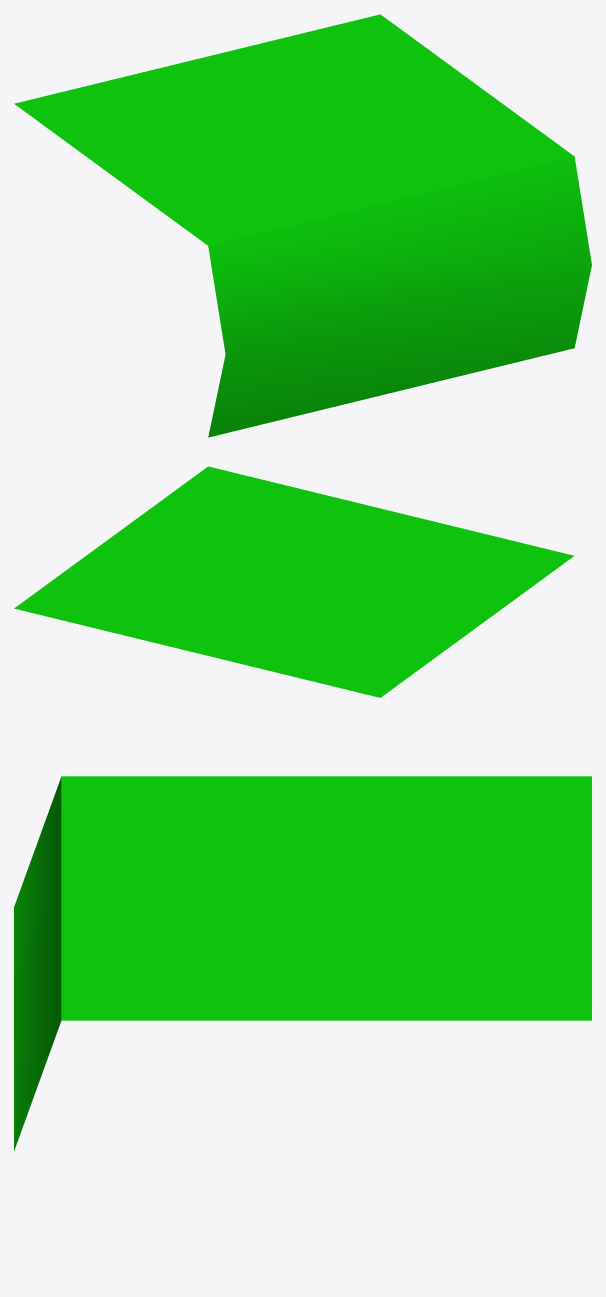
The model's file is Orthogonal_TopFloor.glb.
3 renders of one model, top to bottom at view 1: azimuth 30°, elevation 25°; view 2: azimuth 150°, elevation 25°; view 3: azimuth 270°, elevation 25°, orthographic. The views are drawn at different scales.
Visible parts, largest first — view 1: Orthogonal_TopFloor; view 2: Orthogonal_TopFloor; view 3: Orthogonal_TopFloor.
Part boxes in pixels (box(x1,y1,x2,y2)): Orthogonal_TopFloor: box(14, 14, 591, 437); Orthogonal_TopFloor: box(14, 466, 574, 697); Orthogonal_TopFloor: box(14, 776, 591, 1150).
Size of the model in its own units: 0.5 by 0.25 by 0.5.
